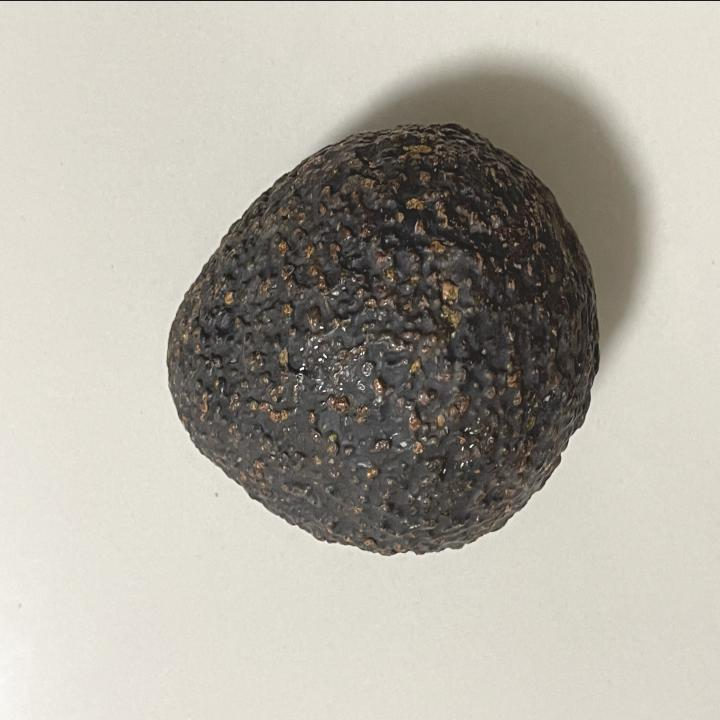Level3: (156, 114, 608, 572)
